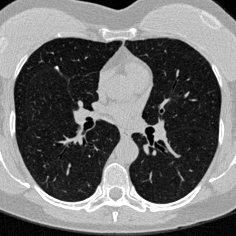nodule: (55, 66, 59, 70)
